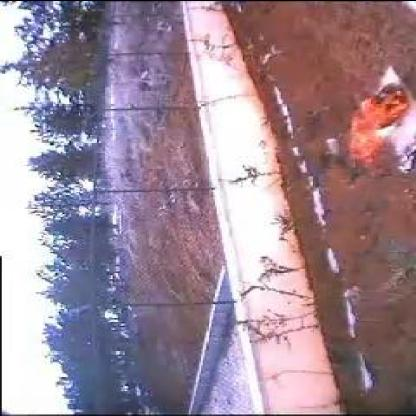foggia-v2-map80-epoch100 - v1 4323: (348, 79, 406, 171)
